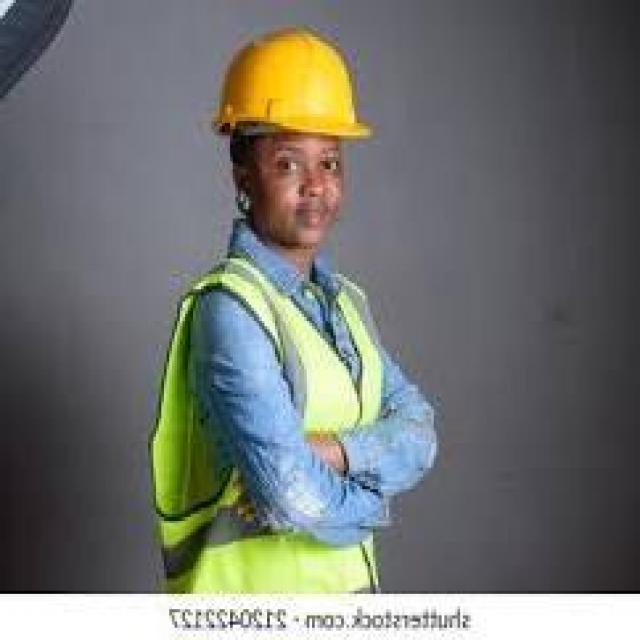Reflective-Jacket: (138, 252, 400, 597)
Safety-Helmet: (204, 22, 380, 160)
